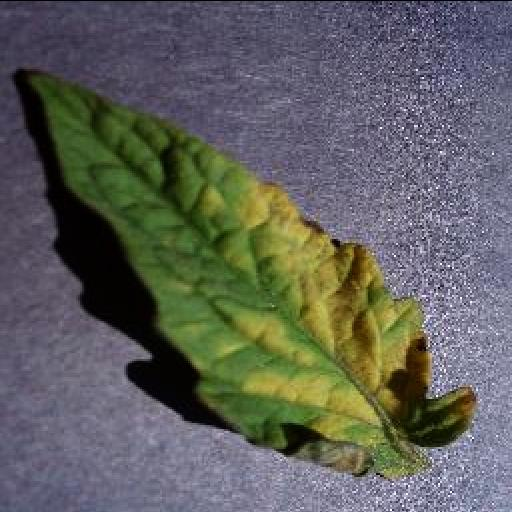disease_tomato: (17, 66, 479, 478)
